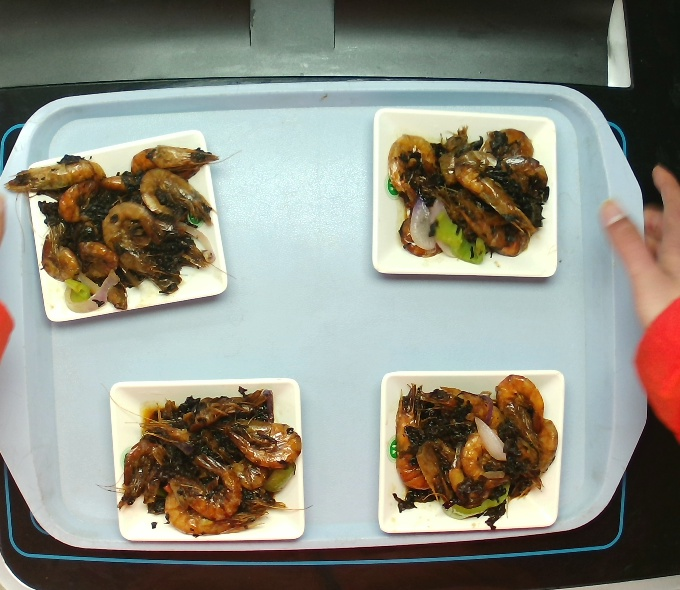wcq-GanCaiXia: (94, 382, 315, 545), (23, 140, 226, 316), (389, 374, 558, 525), (380, 122, 549, 264)
